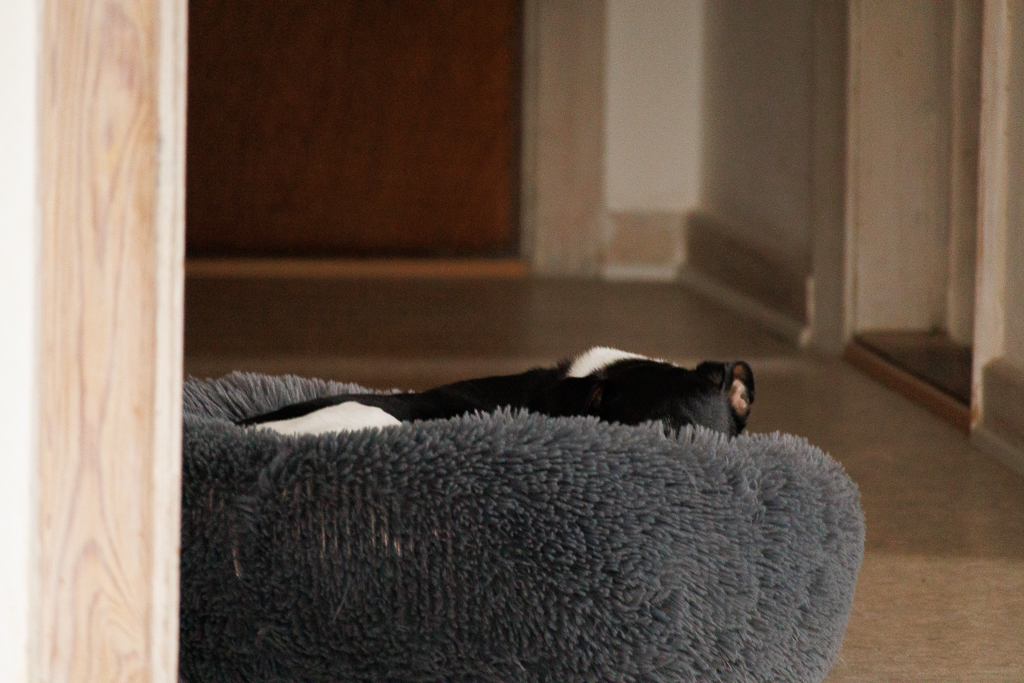Dog: (211, 329, 775, 441)
